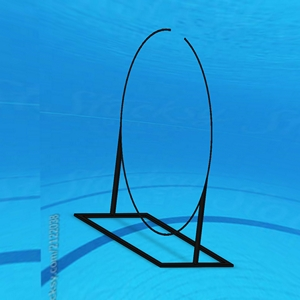circle: (72, 27, 236, 274)
